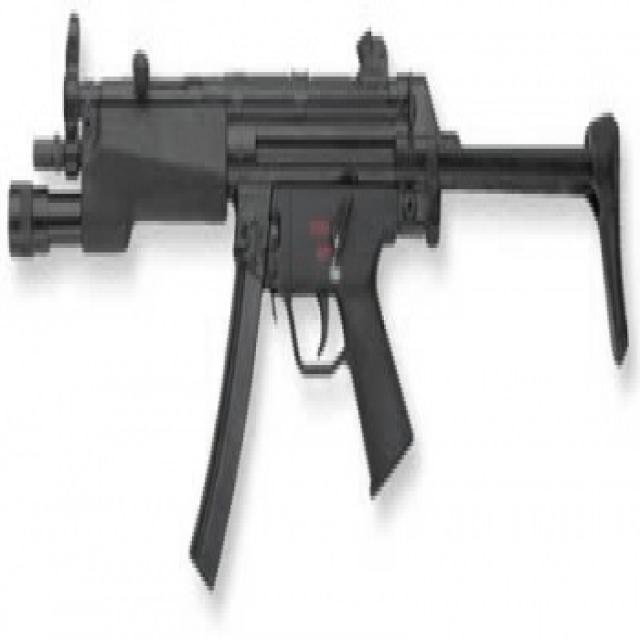rifle: (8, 9, 634, 607)
